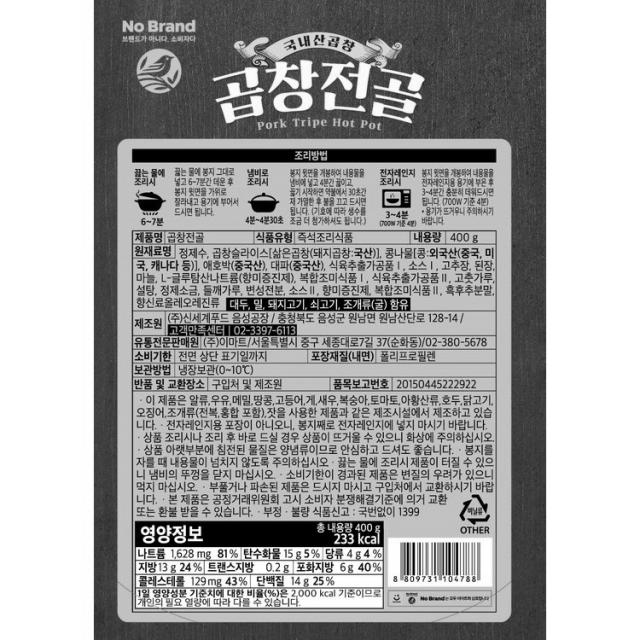Nutrition Label: (131, 518, 389, 625)
